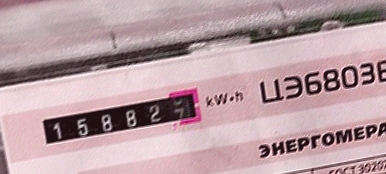1: (50, 118, 65, 139)
2: (148, 101, 162, 121)
5: (75, 114, 90, 136)
7: (173, 104, 186, 120)
8: (99, 109, 114, 132), (124, 105, 139, 128)
screen: (33, 79, 213, 152)
